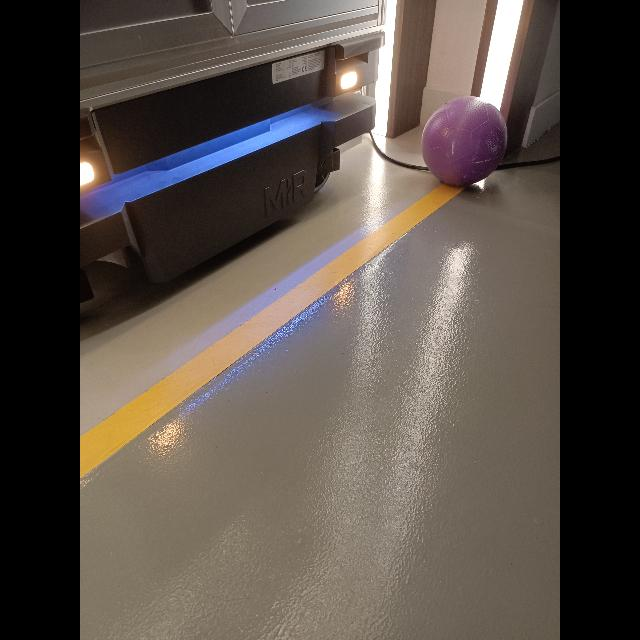P: (421, 87, 509, 191)
